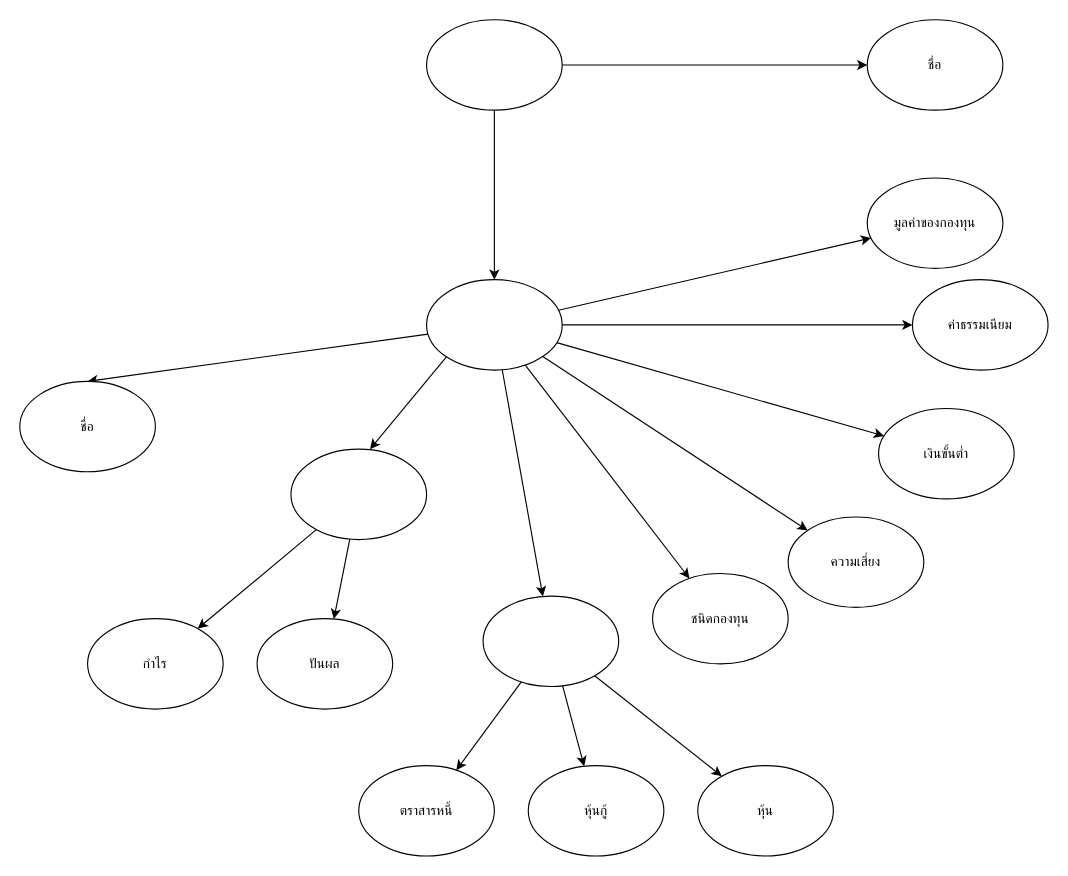
Some shapes in this 1068 by 876 pixel diagram are drawn without their labels. The shapes that lost their labels are listed below. From the top down, each one's box as (x1, y1, x2, y2) in pixels, then its label:
(425, 19, 562, 110): บลจ
(425, 279, 562, 370): กองทุน
(290, 448, 427, 540): ผลตอบแทน
(482, 595, 619, 686): สิ่งที่ลงทุน
